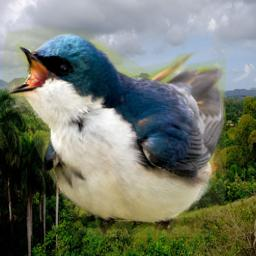Swallow: (2, 27, 226, 237)
